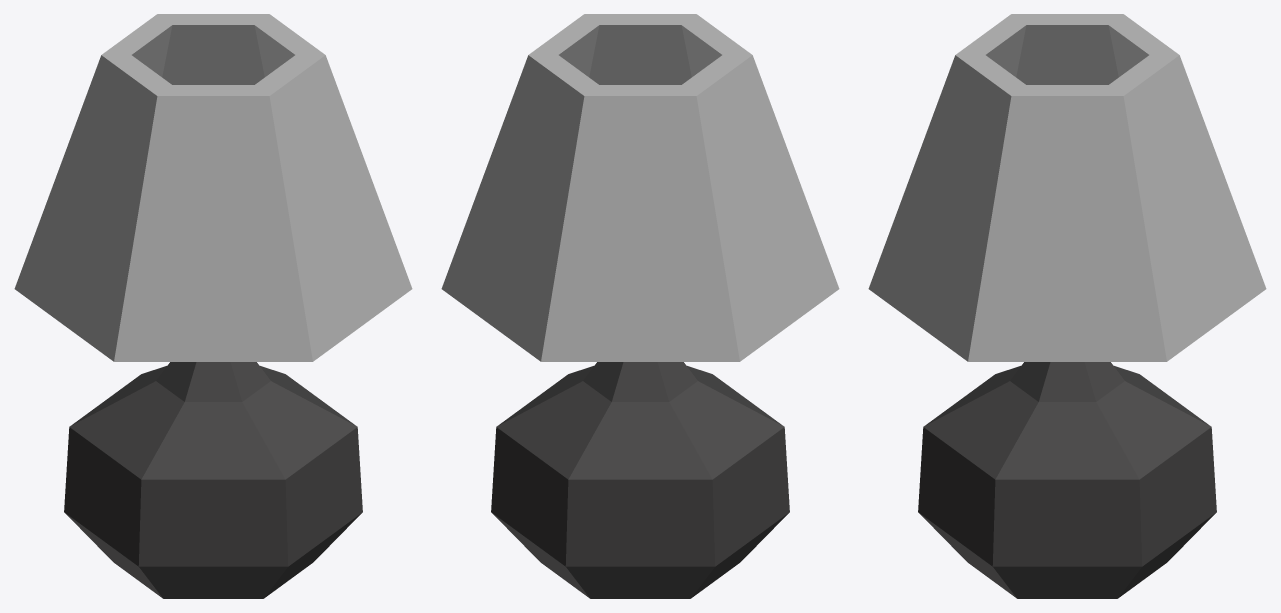
File: SM_Prop_Lamp_02.fbx
3 renders of one model, left to right at view 1: azimuth 30°, elevation 25°; view 2: azimuth 150°, elevation 25°; view 3: azimuth 270°, elevation 25°, orthographic.
Visible parts, largest first — view 1: SM_Prop_Lamp_02; view 2: SM_Prop_Lamp_02; view 3: SM_Prop_Lamp_02.
Part boxes in pixels (left/top/right/bottom): SM_Prop_Lamp_02: left=14, top=14, right=412, bottom=598; SM_Prop_Lamp_02: left=441, top=14, right=839, bottom=598; SM_Prop_Lamp_02: left=868, top=14, right=1266, bottom=598.
Size of the model in its own units: 29.89 by 48.53 by 34.51.
